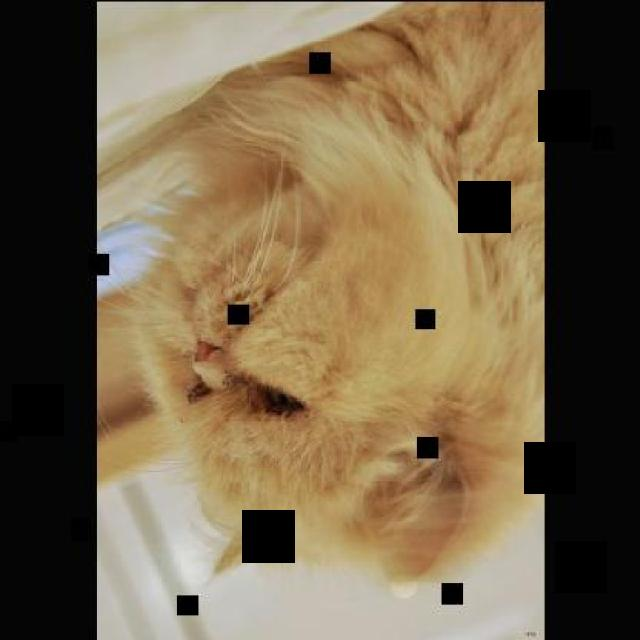unauthorized: (96, 0, 544, 585)
